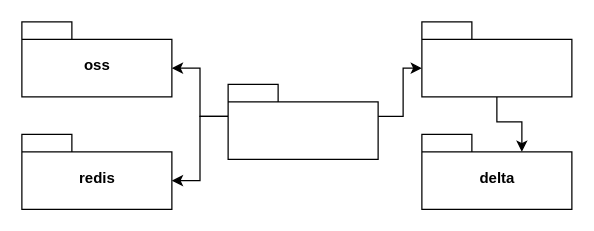
Image size: 594x231. Some labels were removed from this diagram. The shapes that lost their labels are listed below. From the top down, each one's centre as x and y in pixels, then its label:
the point at 496,59: pyspark
the point at 302,121: data_server
